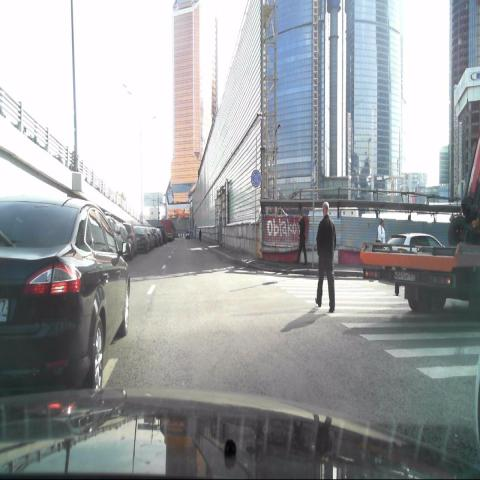3_27: (250, 168, 262, 188)
